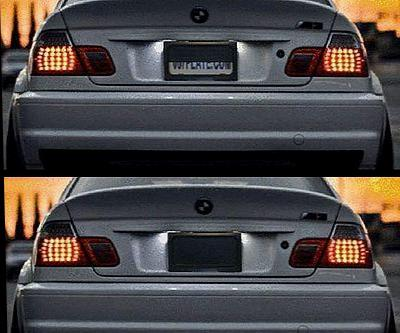License_Plate: (161, 37, 244, 84)
